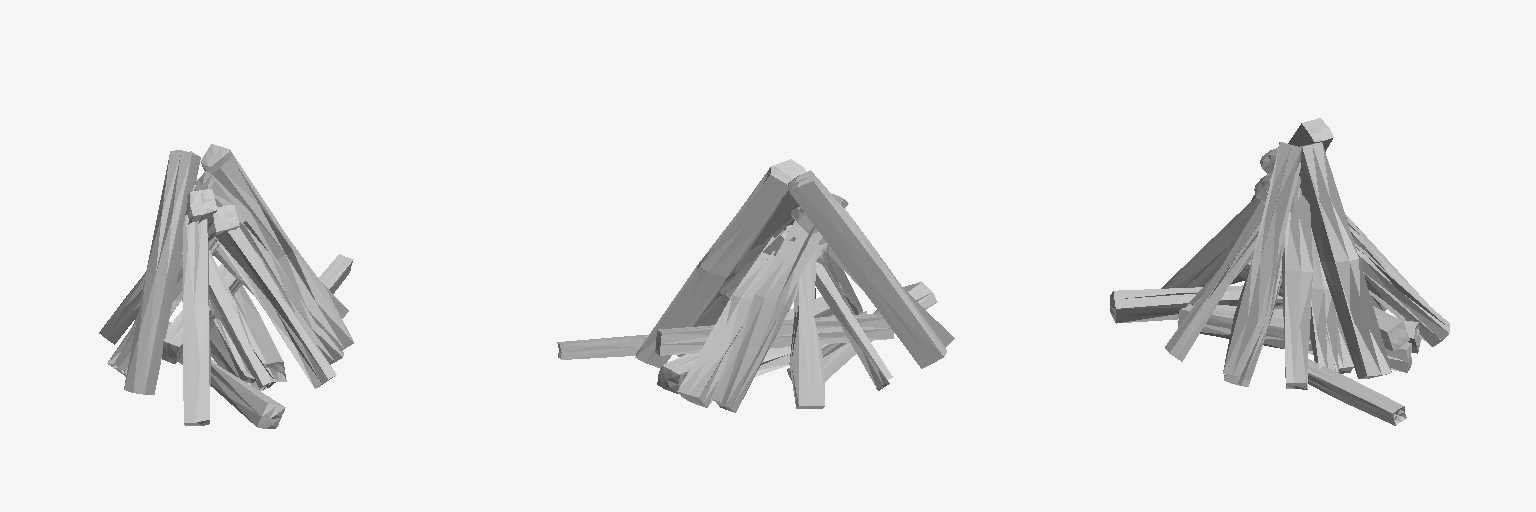
Rendered from logs.obj.
The picture shows the model from 3 angles: view 1: azimuth 30°, elevation 25°; view 2: azimuth 150°, elevation 25°; view 3: azimuth 270°, elevation 25°; orthographic projection.
Visible parts, largest first — view 1: Cube.019_Cube.003; view 2: Cube.019_Cube.003; view 3: Cube.019_Cube.003.
Part boxes in pixels (x1,y1,x2,y2): Cube.019_Cube.003: (99,144,353,428); Cube.019_Cube.003: (557,159,954,412); Cube.019_Cube.003: (1110,118,1449,425).
Size of the model in its own units: 2.03 by 1.34 by 1.95.